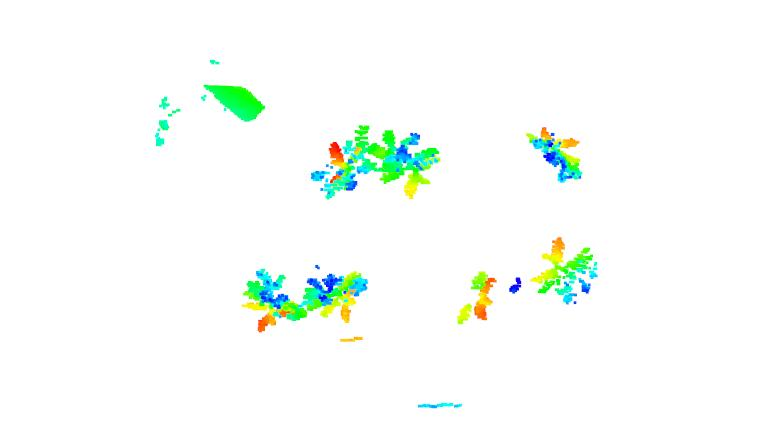chickpea: (369, 128, 443, 198), (314, 126, 373, 199), (535, 238, 598, 306), (243, 269, 307, 333), (300, 272, 370, 321), (527, 127, 586, 179), (456, 271, 498, 324)
